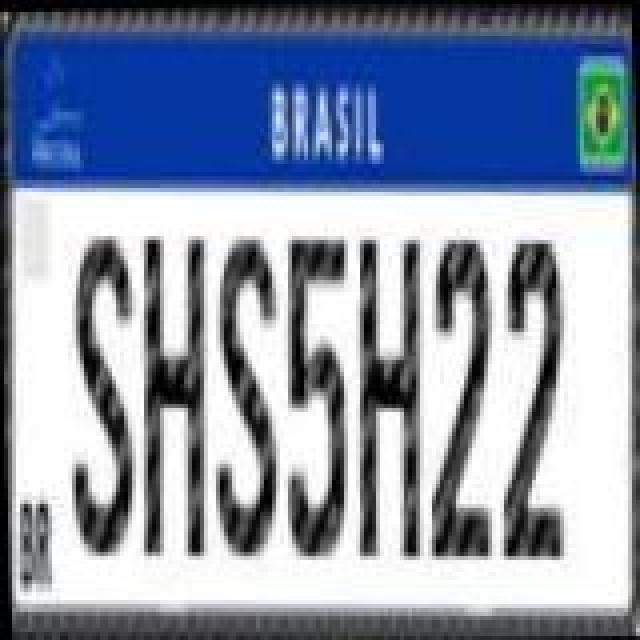2: (414, 230, 502, 566), (486, 228, 574, 564)
5: (272, 230, 356, 558)
H: (126, 226, 214, 562), (342, 236, 430, 564)
S: (58, 222, 146, 562), (202, 226, 290, 566)
